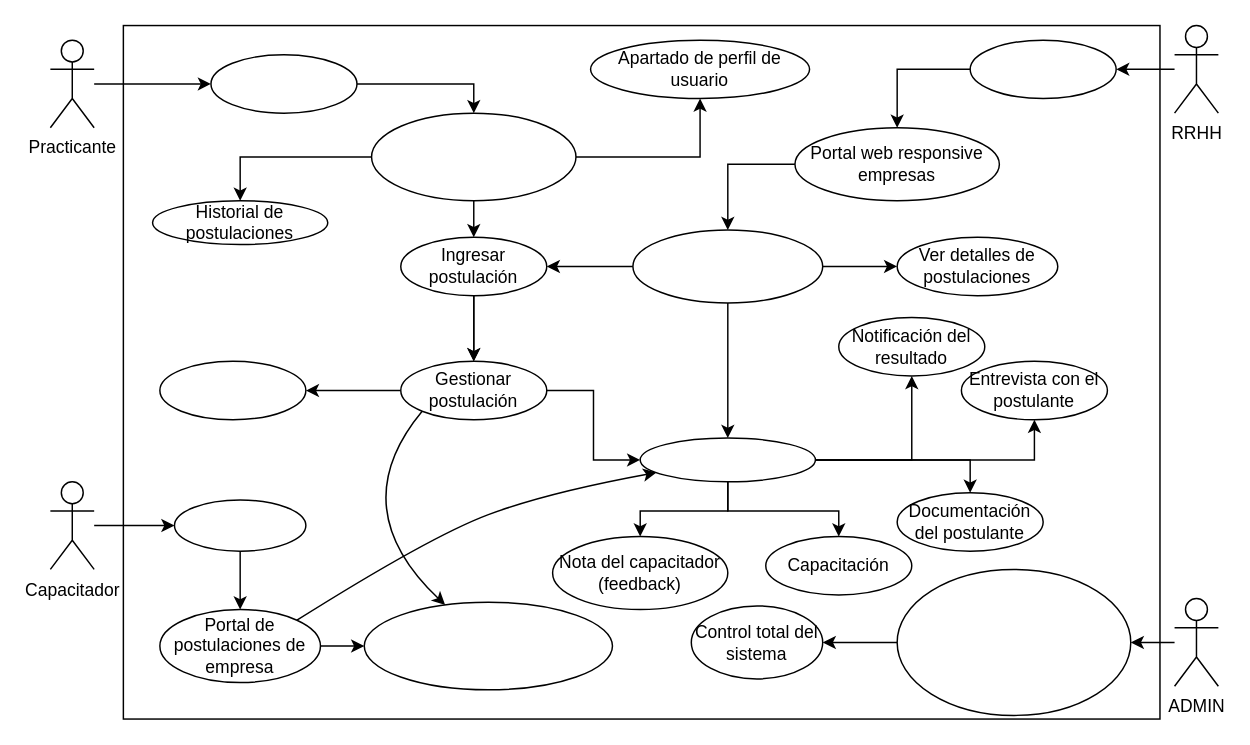
Some shapes in this 1250 by 745 pixel diagram are drawn without their labels. The centre of each missing label's shape, as x and y in pixels:
"Creacion de cuentas para RRHH de empresas y Capacitadores de empresas" goes at [1013,641].
"Creación de oferta de practica" goes at [727,265].
"Historial de postulaciones asociado a determinada postulacion" goes at [487,645].
"Login Capacitador" goes at [239,525].
"Login RRHH" goes at [1042,69].
"Login/Registro" goes at [283,83].
"Portal web responsive practicantes" goes at [473,156].
"Validación" goes at [727,459].
"Ver estado de postulación" goes at [232,390].
